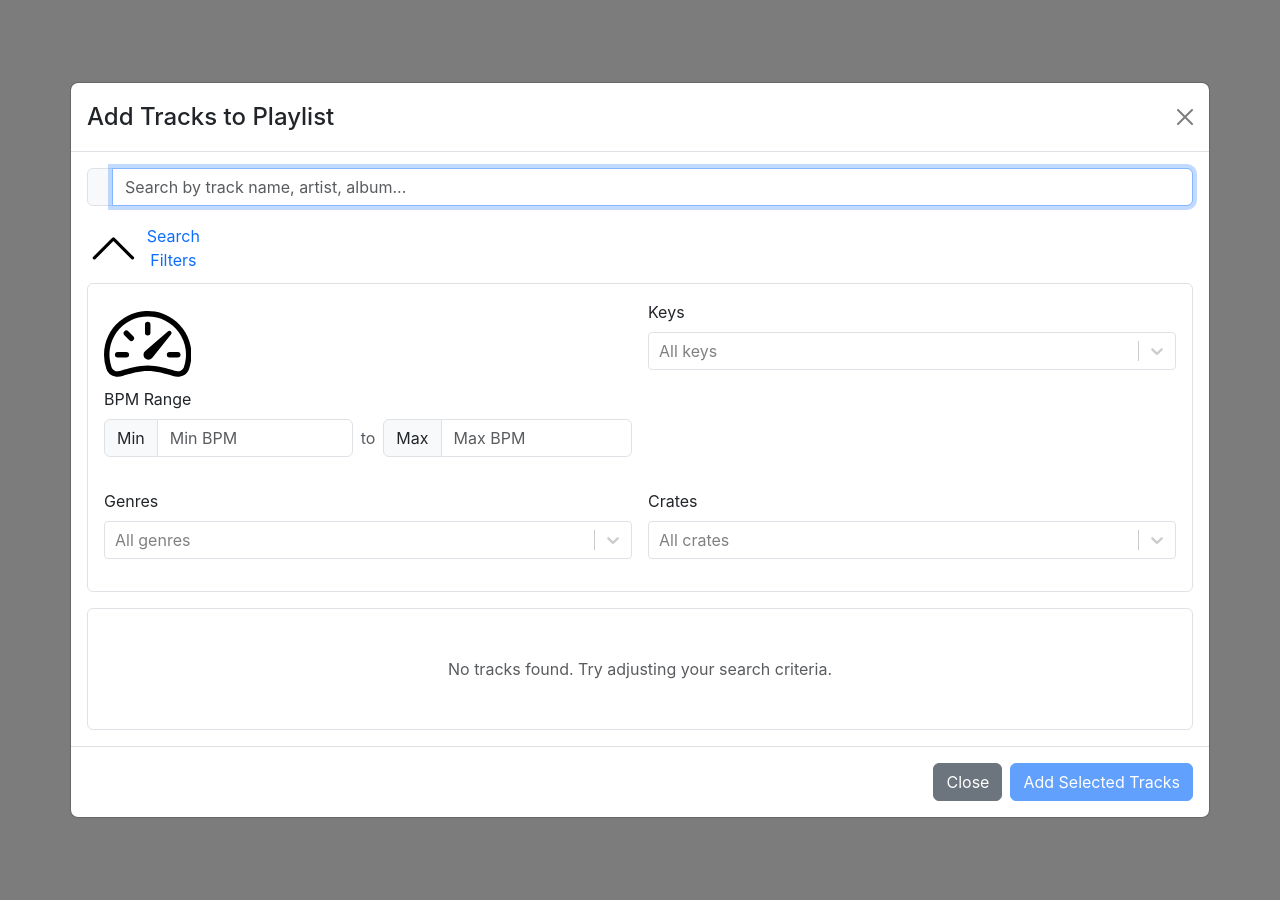
TrackSearchModal › performs a search when filters change
Note: Type in the search box
Type "Test" into the field with placeholder "Search by track name, artist, album..." at coordinates (652, 187), box x1=112 y1=168 x2=1193 y2=206
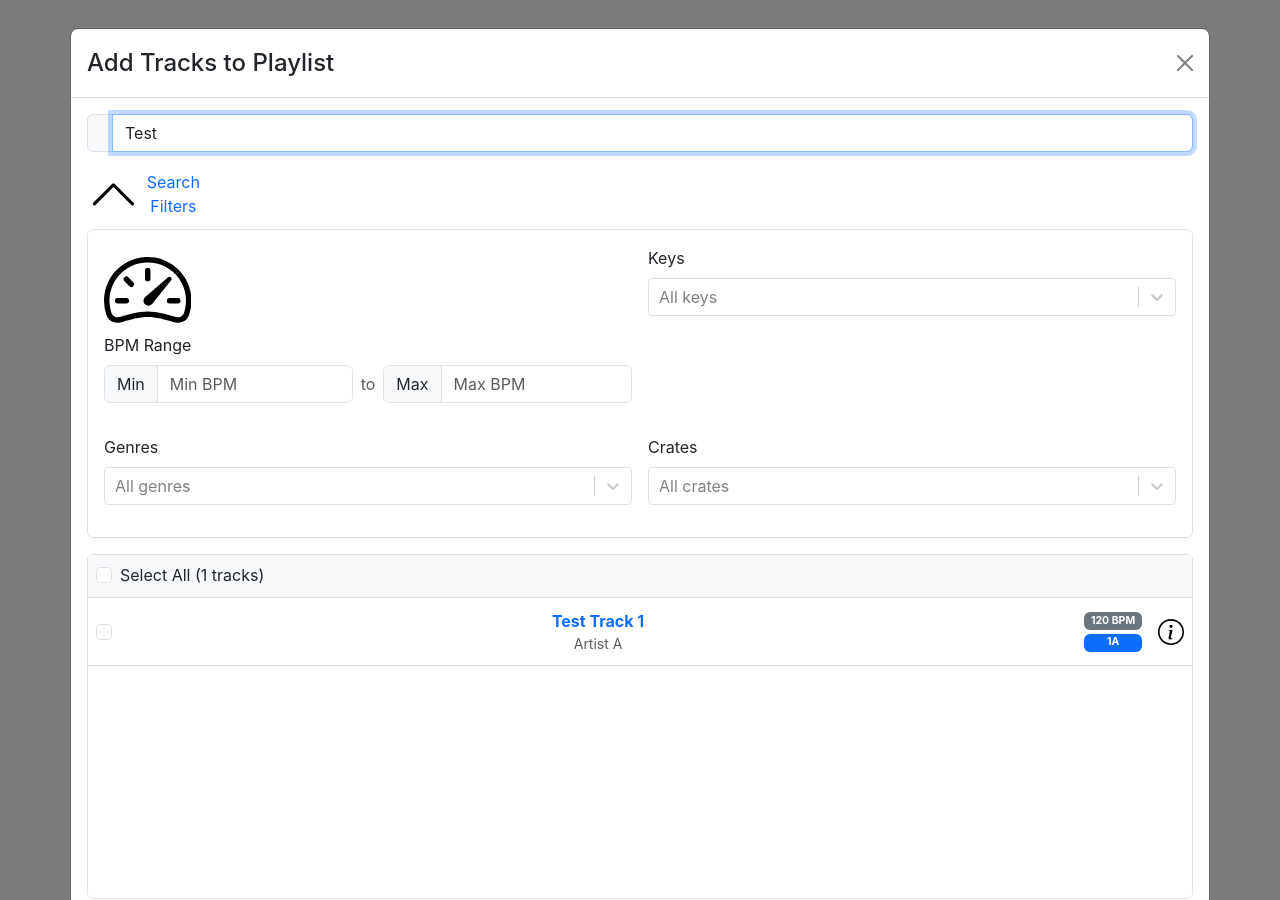
Result: the text "Test Track 1" is shown at x1=552 y1=611 x2=644 y2=631
Result: the text "Artist A" is shown at x1=574 y1=635 x2=622 y2=652
